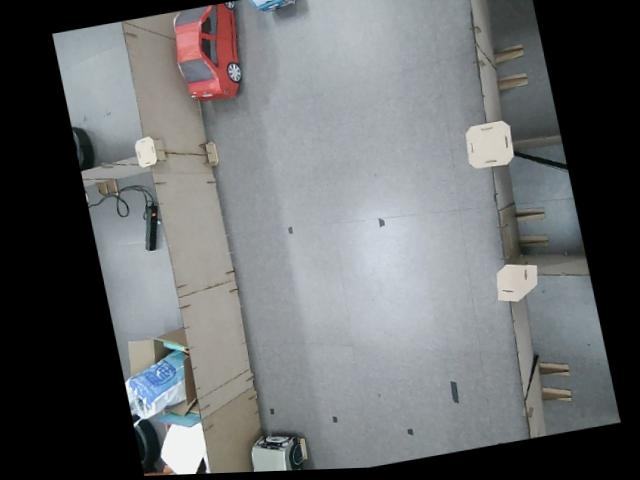car: (165, 0, 254, 107), (239, 429, 310, 472)
